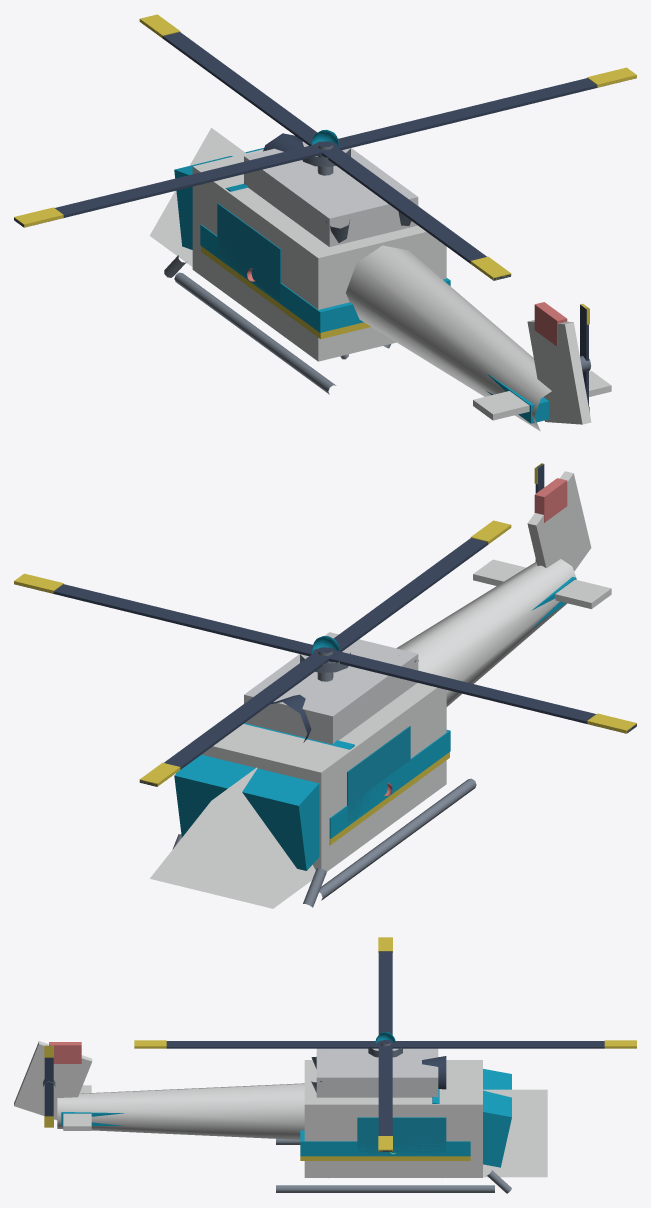
Rendered from news-chopper.glb.
The picture shows the model from 3 angles, top to bottom: view 1: azimuth 30°, elevation 25°; view 2: azimuth 150°, elevation 25°; view 3: azimuth 270°, elevation 25°; orthographic projection. The views are drawn at different scales.
Visible parts, largest first — view 1: Root; view 2: Root; view 3: Root.
Boxes of the visible parts, x1,y1,x2,y2 form: Root: (14,14,636,431); Root: (14,463,636,908); Root: (14,937,636,1193).
Size of the model in its own units: 12.4 by 3.74 by 15.37.
